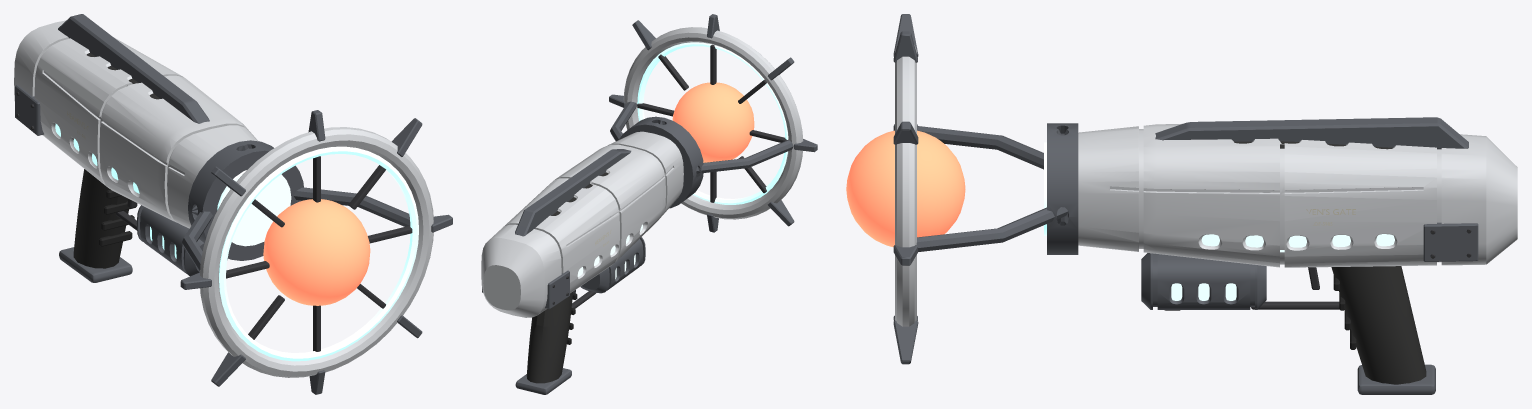
File: heavensgate.glb
3 renders of one model, left to right at view 1: azimuth 30°, elevation 25°; view 2: azimuth 150°, elevation 25°; view 3: azimuth 270°, elevation 25°, orthographic. The views are drawn at different scales.
Visible parts, largest first — view 1: Body; view 2: Body; view 3: Body.
Part boxes in pixels (box(x1,y1,x2,y2)): Body: box(14, 14, 452, 394); Body: box(481, 14, 817, 394); Body: box(846, 14, 1517, 394).
Bounding box in the file's own units: 0.22 × 0.2482 × 0.428.
